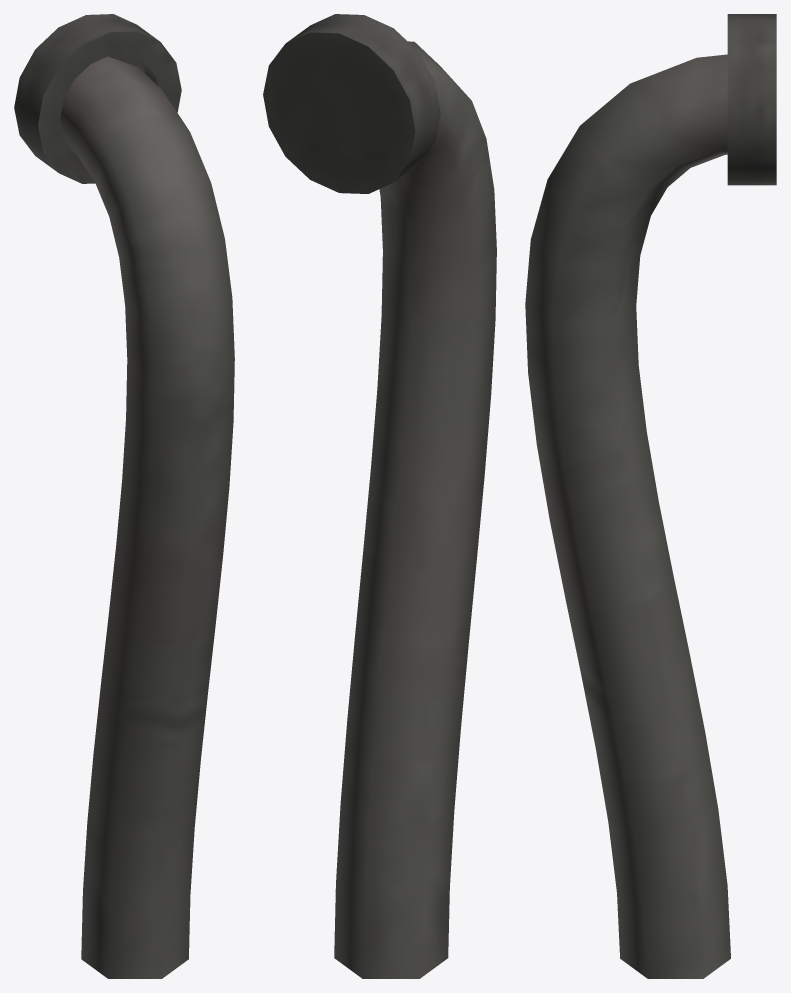
Rendered from cable_end.gltf.
The picture shows the model from 3 angles, left to right: view 1: azimuth 30°, elevation 25°; view 2: azimuth 150°, elevation 25°; view 3: azimuth 270°, elevation 25°; orthographic projection. The views are drawn at different scales.
Parts seen in each view (by area): view 1: cable_end; view 2: cable_end; view 3: cable_end.
Boxes of the visible parts, x1,y1,x2,y2 form: cable_end: (14, 14, 234, 978); cable_end: (263, 14, 496, 978); cable_end: (525, 14, 776, 978).
Size of the model in its own units: 0.0173 by 0.1045 by 0.0254.
Materials: 1 (1 with a texture image).
